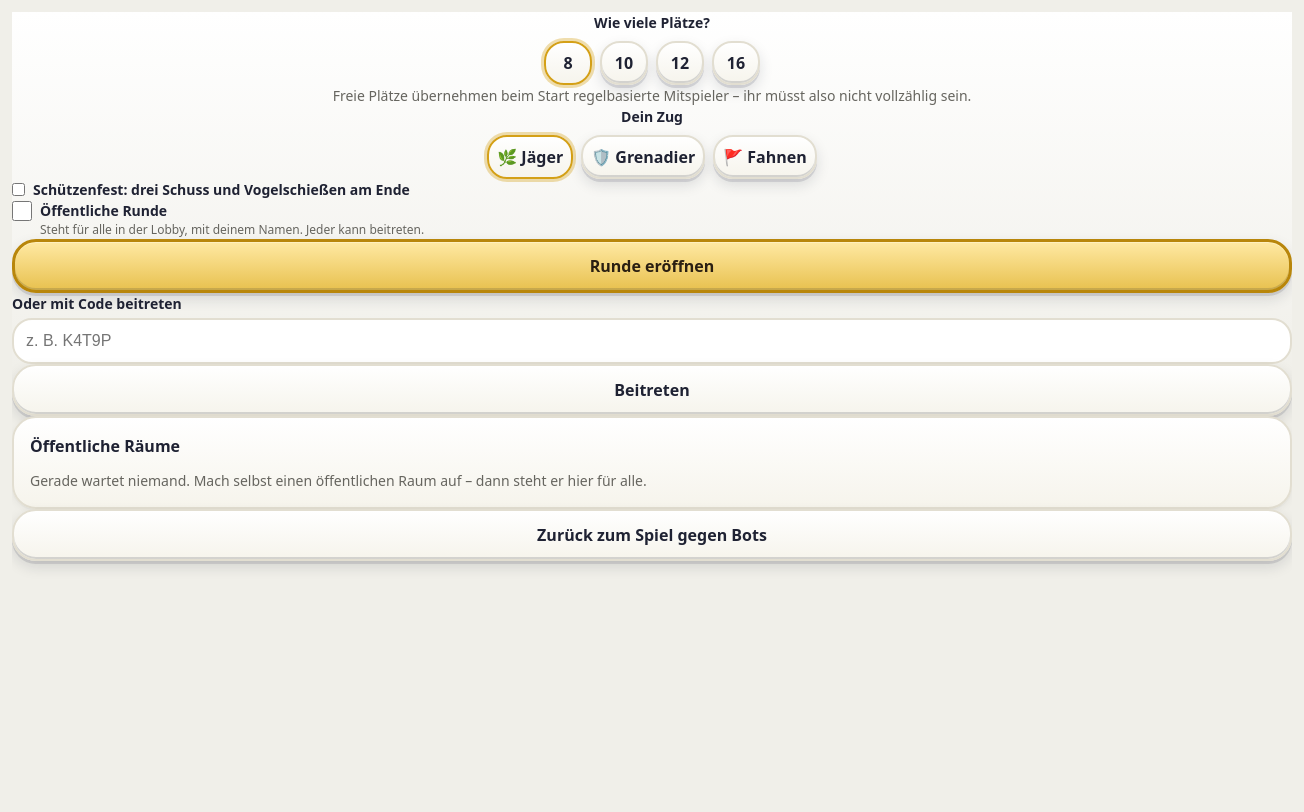
Test case: Schützenrunde online – Oberfläche › zeigt am Ende Sieg, Königswürde und alle Rollen
Click the button "Runde eröffnen" at (652, 266), box [12,239,1292,293]
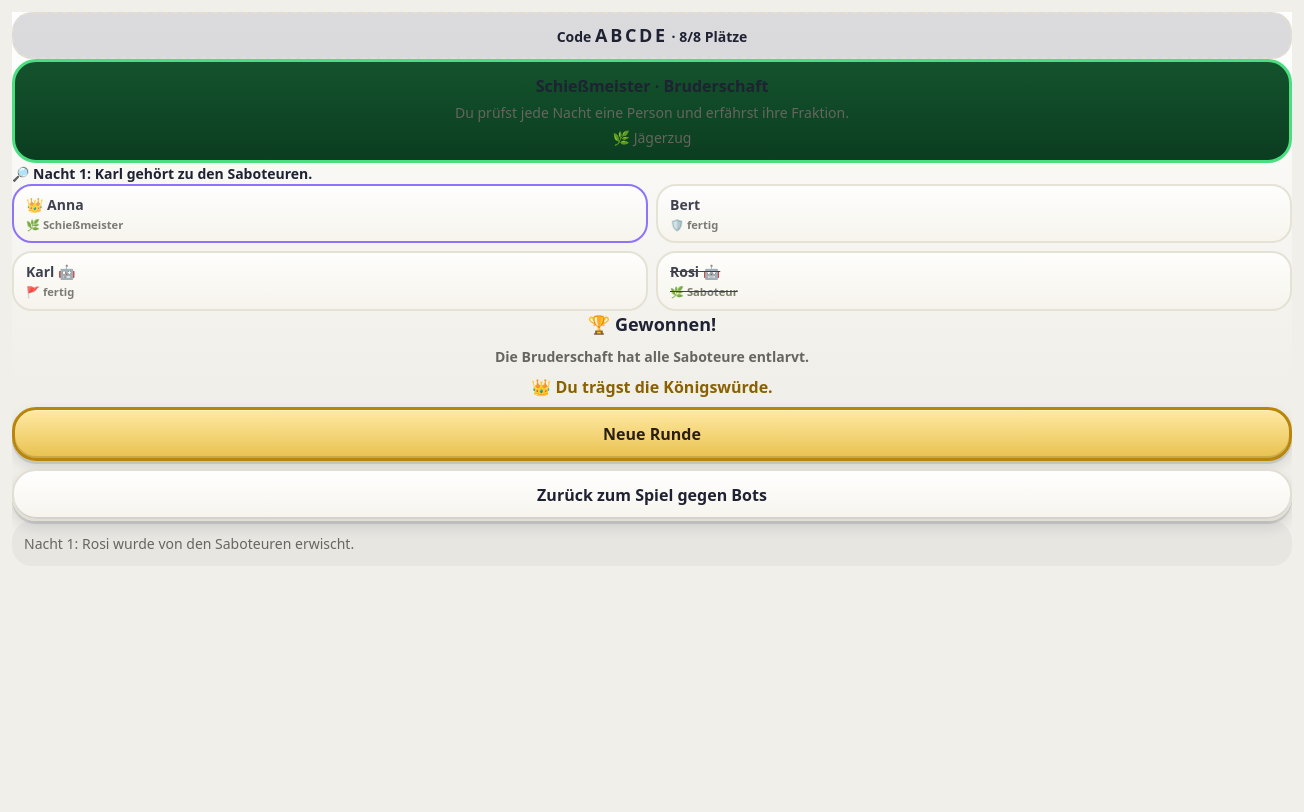
Expected: the text "🏆 Gewonnen!" is shown, [588,311,716,338]
Expected: the text "👑 Du trägst die Königswürde." is shown, [531,375,773,399]
Expected: the button "Neue Runde" is shown, [12,407,1292,461]
